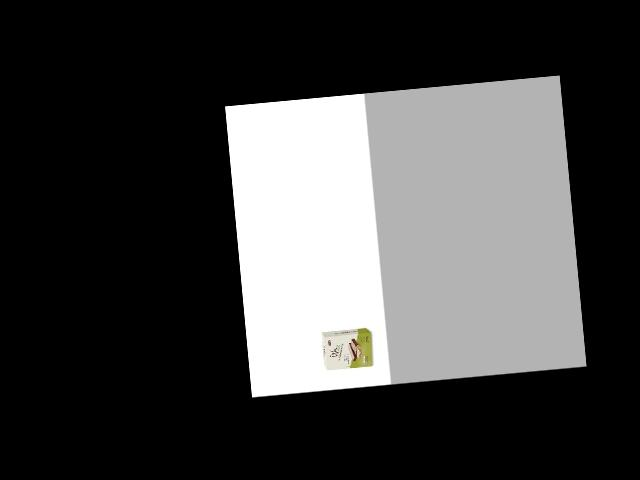chocolate: (320, 324, 375, 371)
